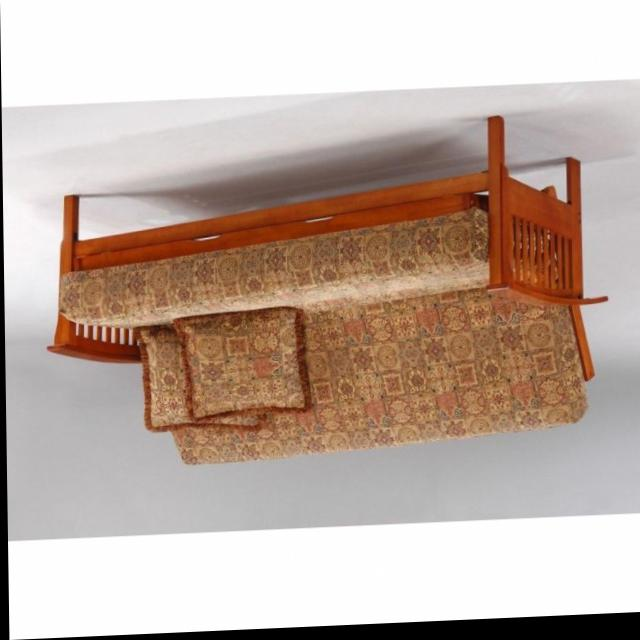Sofa: (41, 116, 608, 474)
